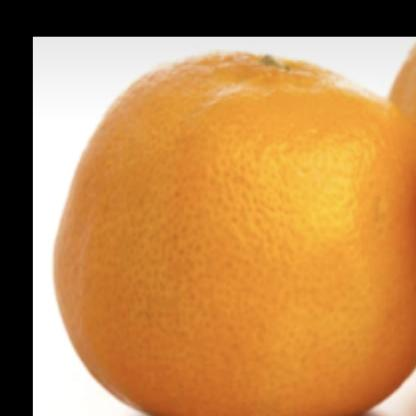fresh: (49, 56, 416, 416)
